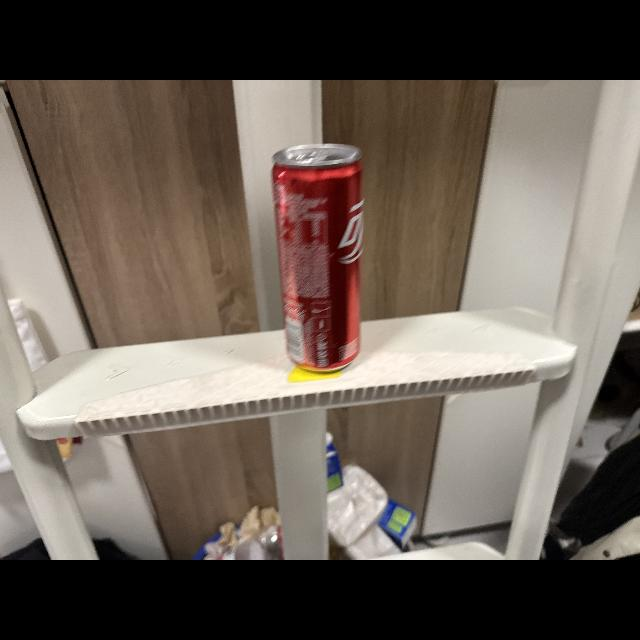Cola: (263, 138, 379, 378)
